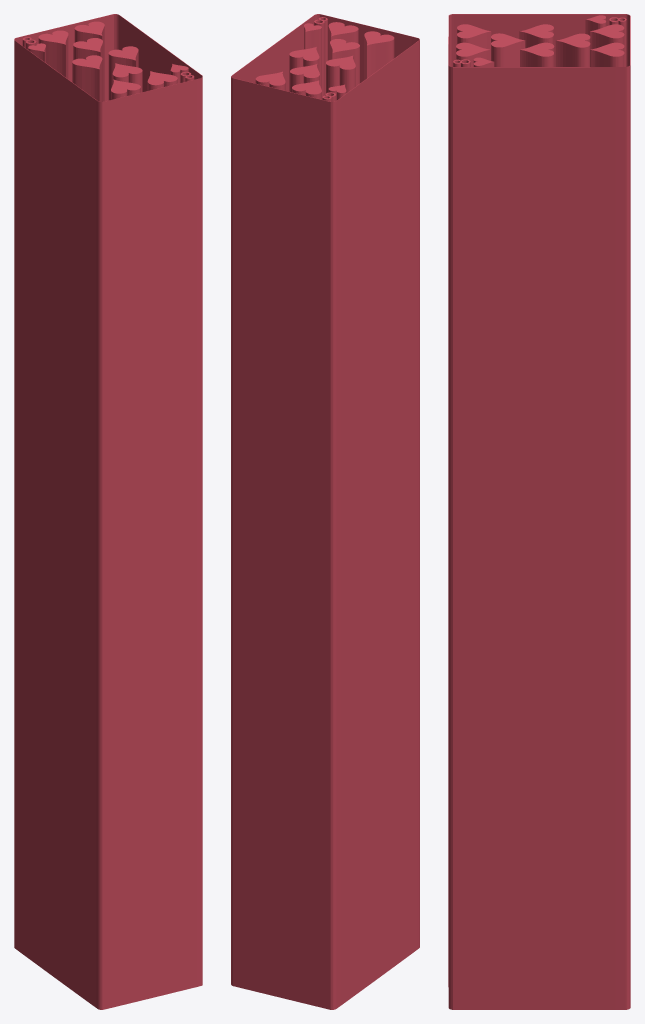
File: 8_hearts.glb
3 renders of one model, left to right at view 1: azimuth 30°, elevation 25°; view 2: azimuth 150°, elevation 25°; view 3: azimuth 270°, elevation 25°, orthographic. The views are drawn at different scales.
Visible parts, largest first — view 1: Mesh_Mesh_head_geo.001_lambert2SG.001; view 2: Mesh_Mesh_head_geo.001_lambert2SG.001; view 3: Mesh_Mesh_head_geo.001_lambert2SG.001.
Part boxes in pixels (x1=…): Mesh_Mesh_head_geo.001_lambert2SG.001: x1=14, y1=14, x2=202, y2=1009; Mesh_Mesh_head_geo.001_lambert2SG.001: x1=231, y1=14, x2=419, y2=1009; Mesh_Mesh_head_geo.001_lambert2SG.001: x1=448, y1=14, x2=630, y2=1009.
Size of the model in its own units: 1.21 by 10 by 1.75.
